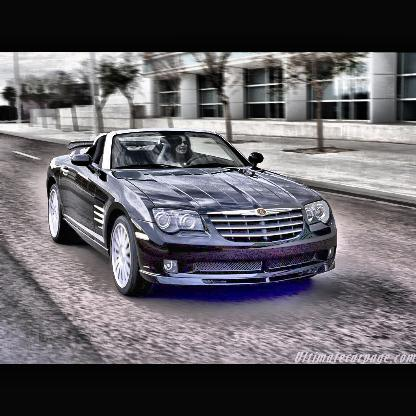Chrysler Crossfire Convertible 2008: (46, 129, 339, 300)
